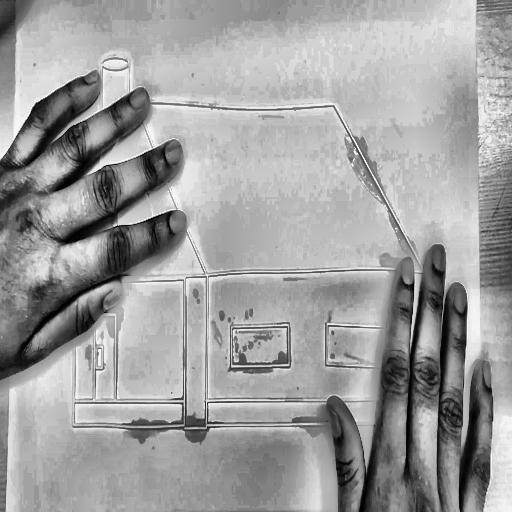house: (52, 50, 452, 455)
